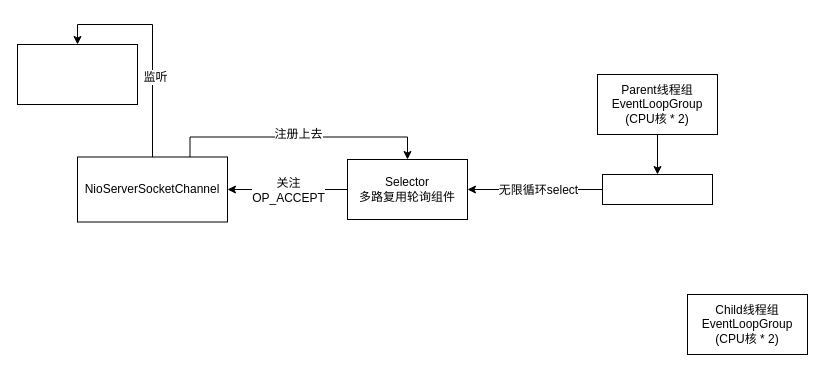
Some shapes in this 825 by 372 pixel diagram are drawn without their labels. The box of each missing label's shape, as (x1, y1, x2, y2) in pixels:
线程 NioEventLoop: (602, 174, 712, 204)
网络端口: (16, 44, 138, 104)
